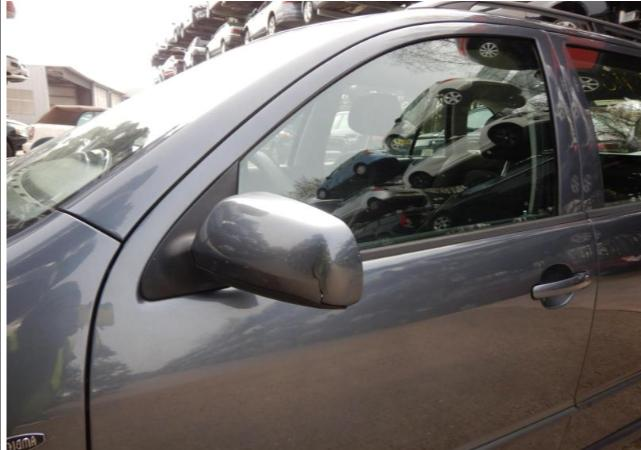Broken part: (163, 192, 365, 308)
